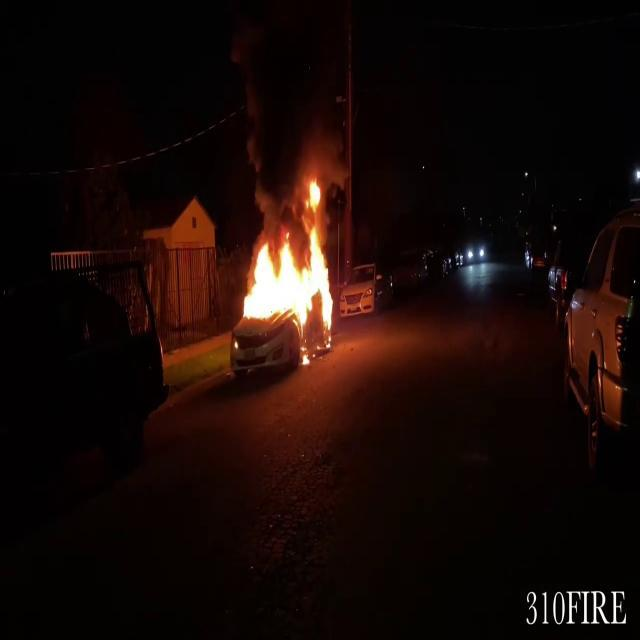Fire: (238, 172, 340, 349)
Smoke: (225, 0, 348, 196)
